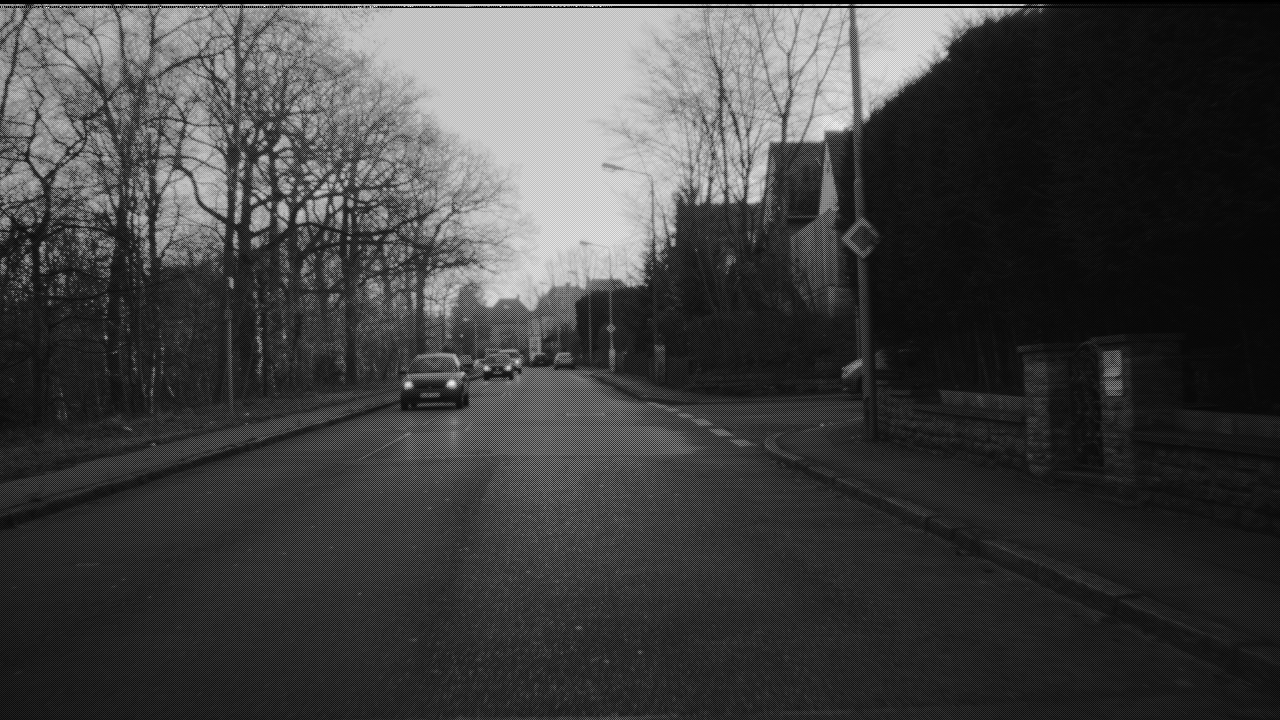pole: (847, 1, 879, 429), (649, 168, 655, 377)
